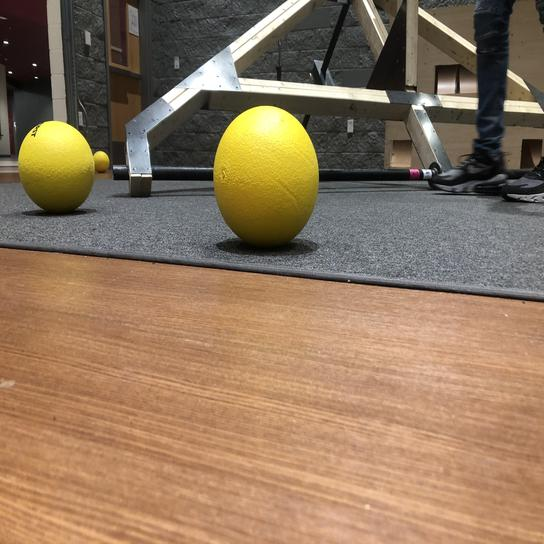ball: (210, 101, 322, 257), (10, 116, 94, 216), (93, 148, 111, 175)
